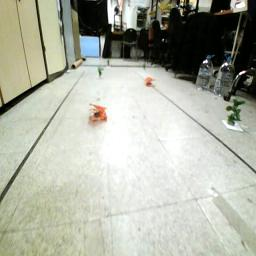herb: (226, 99, 247, 125), (97, 67, 105, 78)
wild: (89, 102, 111, 122), (145, 77, 157, 87)
